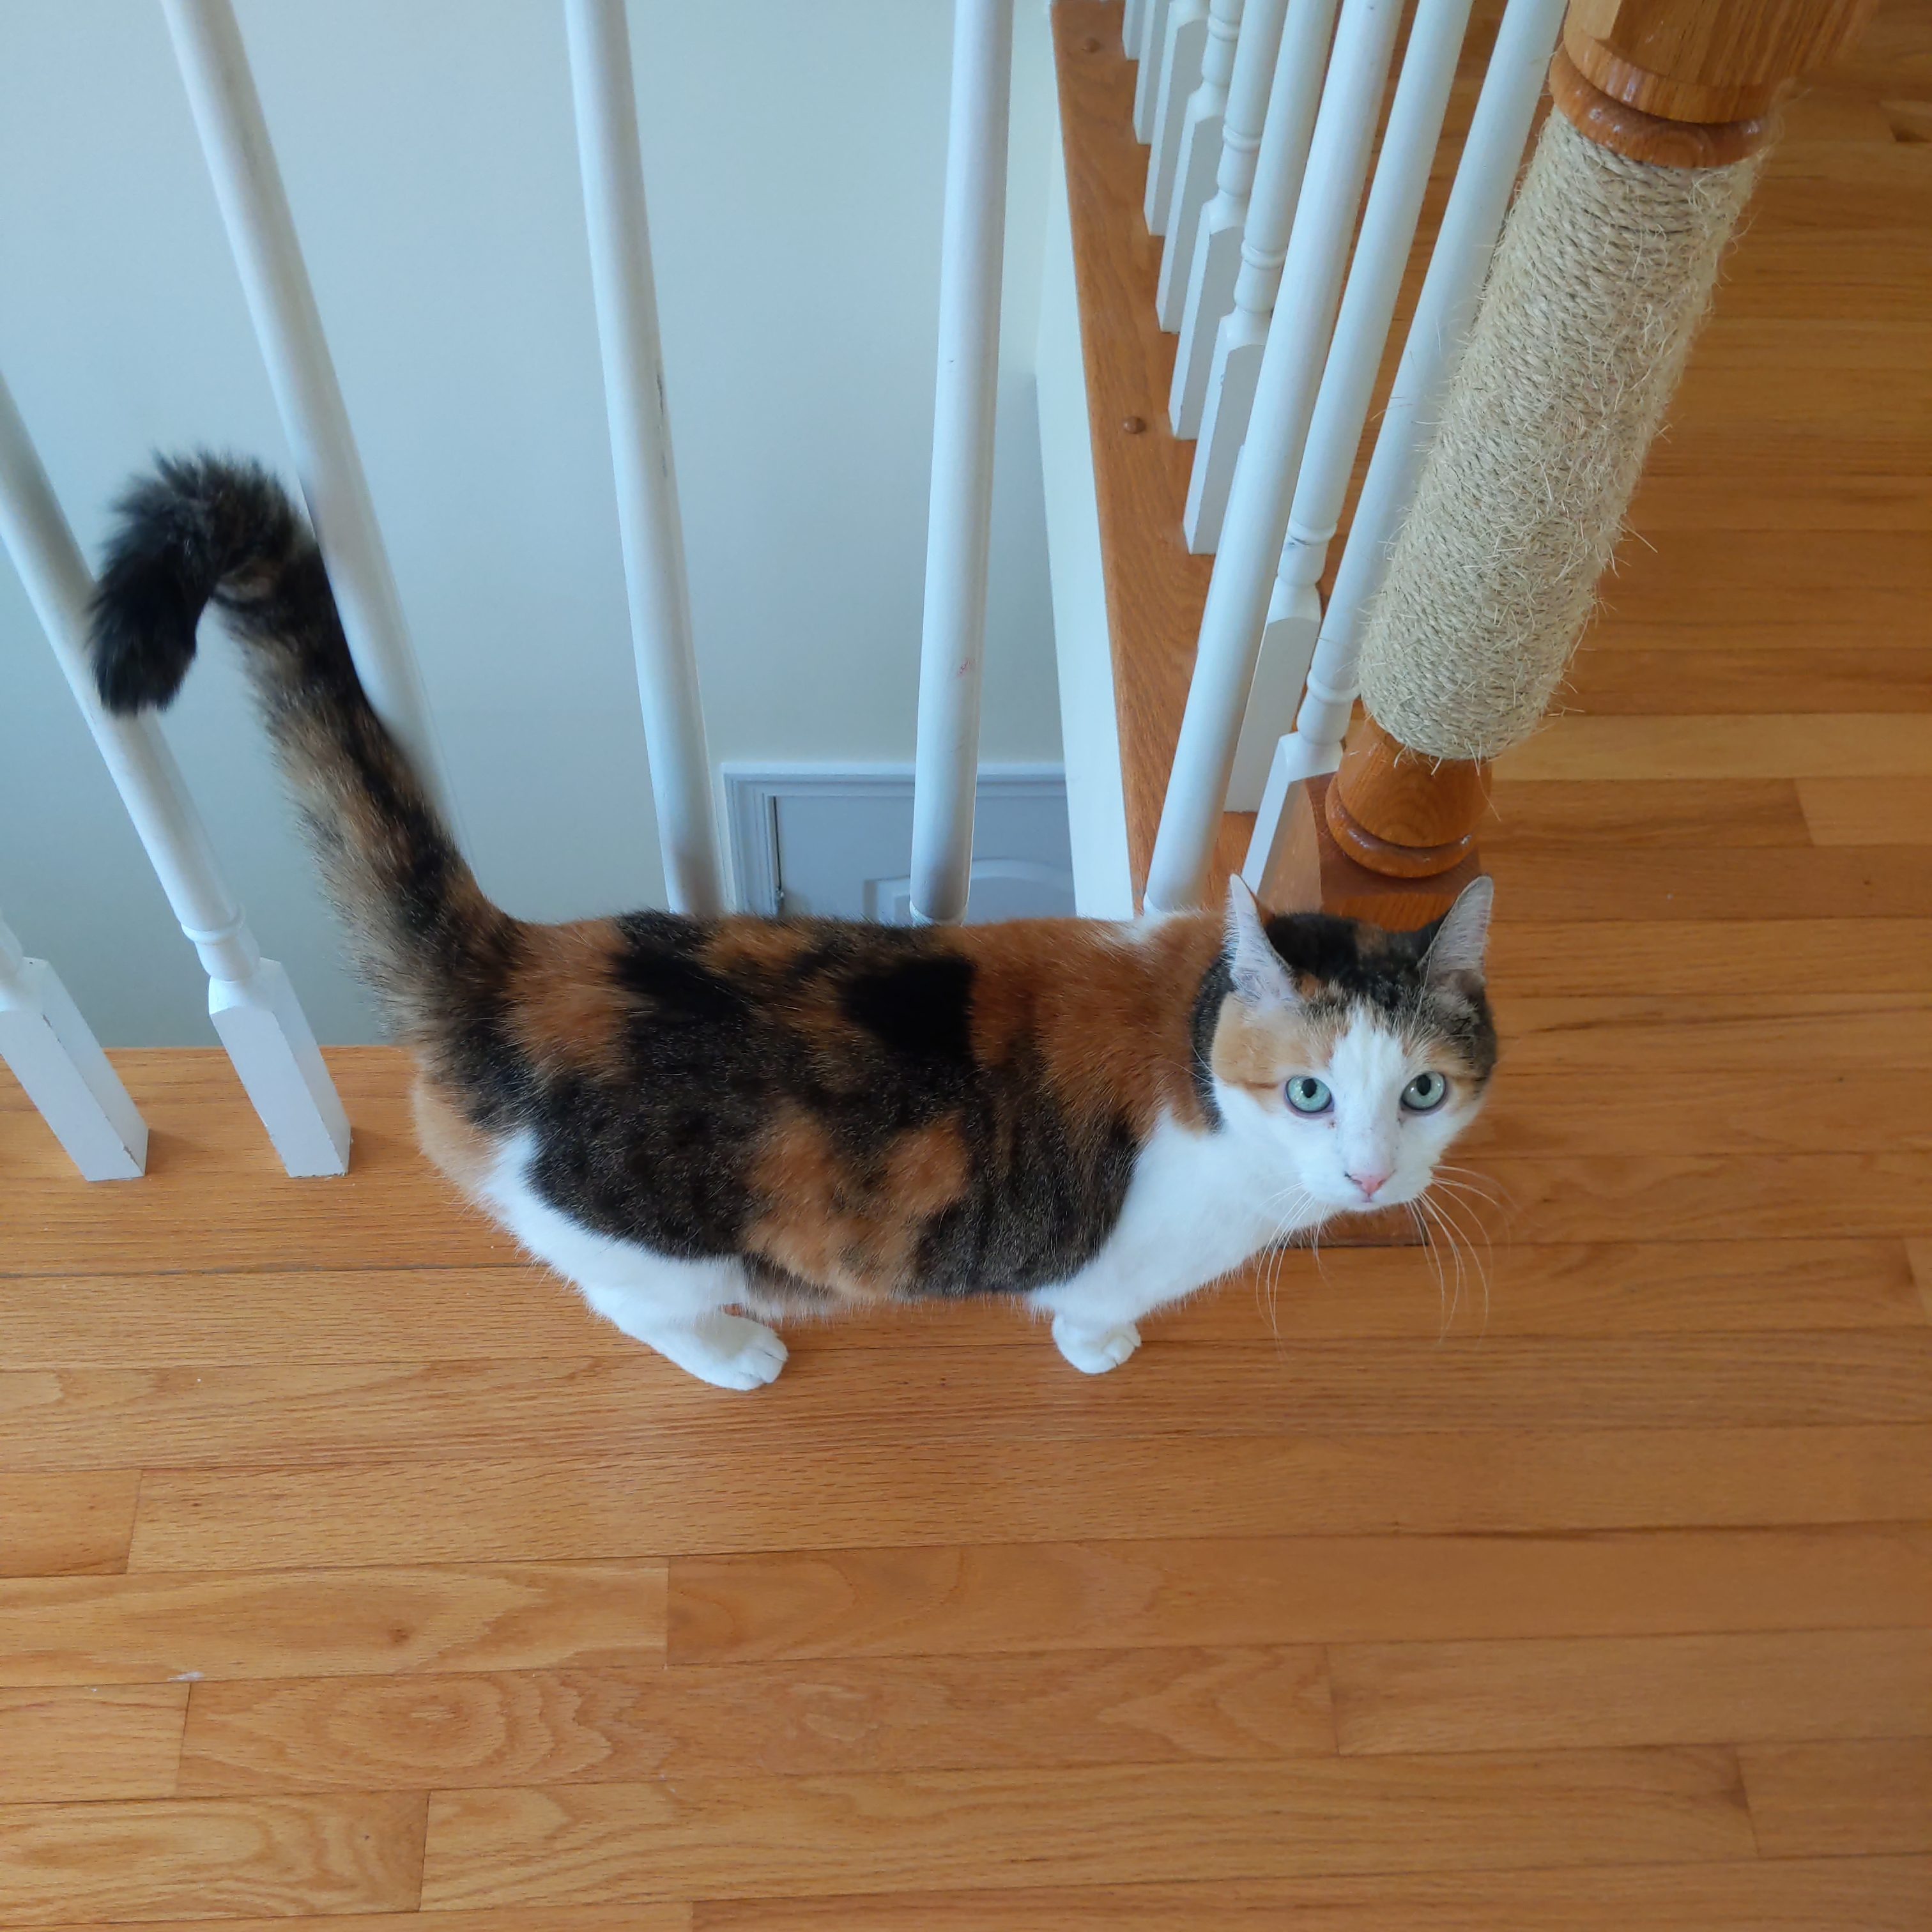Calico: (90, 460, 1504, 1392)
